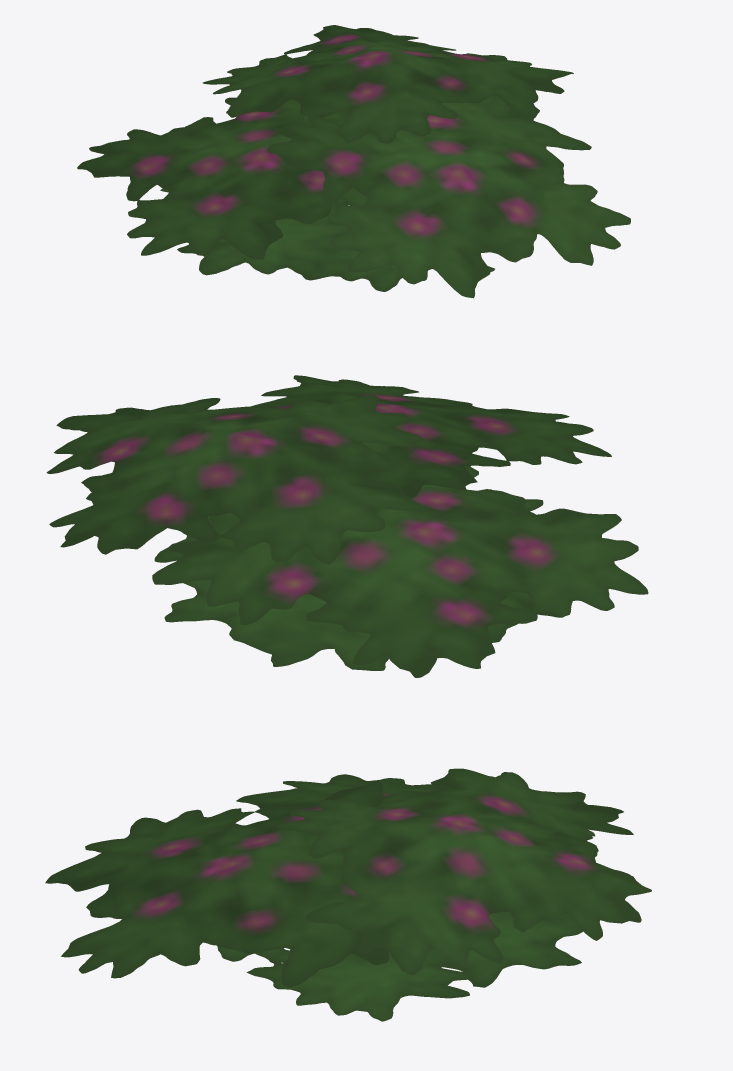
The model's file is Bush_09.fbx.
3 views of the same model, one above another, from view 1: azimuth 30°, elevation 25°; view 2: azimuth 150°, elevation 25°; view 3: azimuth 270°, elevation 25° (orthographic). The views are drawn at different scales.
Parts seen in each view (by area): view 1: Bush_09; view 2: Bush_09; view 3: Bush_09.
Part boxes in pixels (left/top/right/bottom): Bush_09: left=77, top=25, right=630, bottom=298; Bush_09: left=46, top=375, right=648, bottom=677; Bush_09: left=45, top=768, right=651, bottom=1021.
Bounding box in the file's own units: 229 × 50.89 × 243.
Materials: 1 (1 with a texture image).
